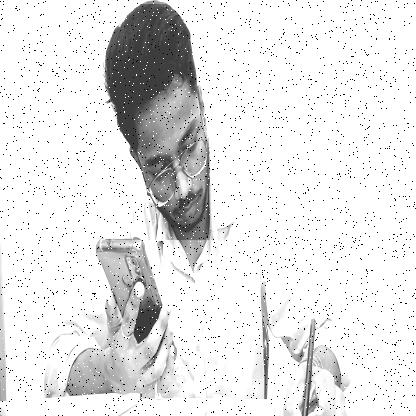Distracted: (106, 4, 216, 240)
